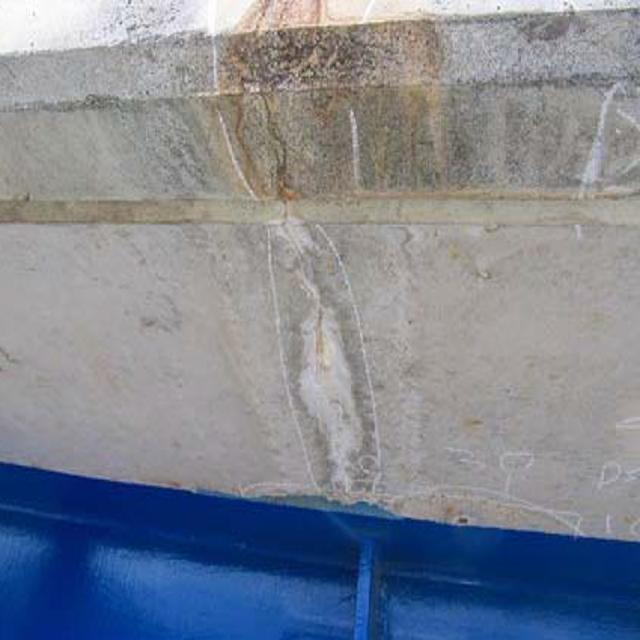freelime: (260, 214, 384, 493)
